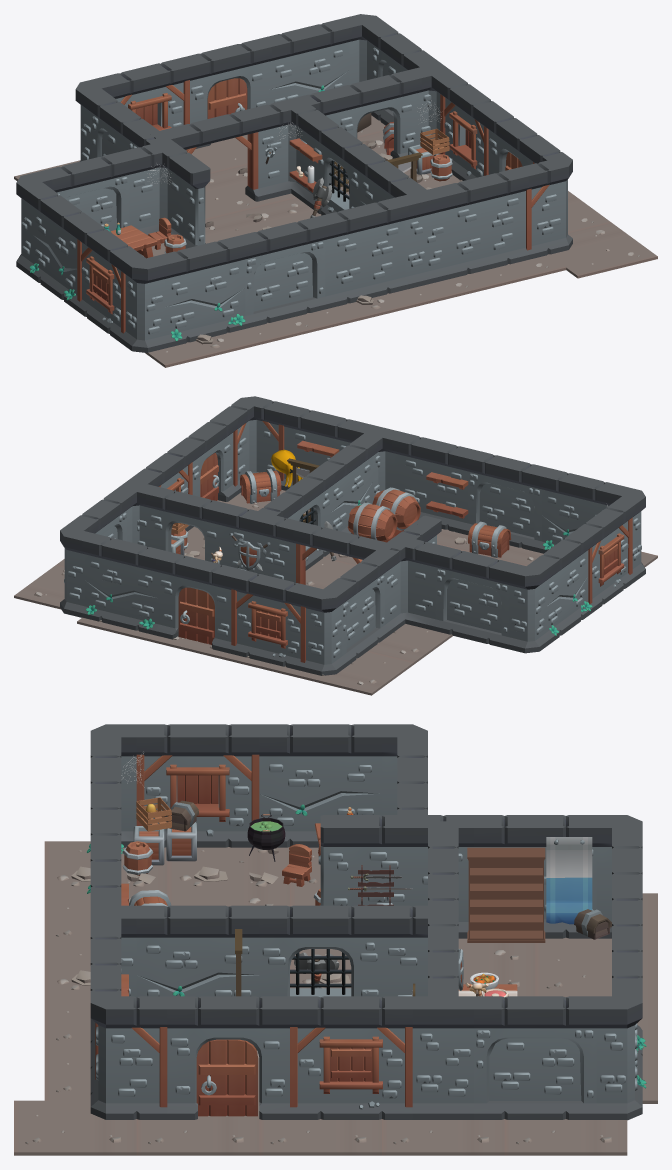
The model's file is one.glb.
The picture shows the model from 3 angles, top to bottom: view 1: azimuth 30°, elevation 25°; view 2: azimuth 150°, elevation 25°; view 3: azimuth 270°, elevation 25°; orthographic projection. The views are drawn at different scales.
Parts seen in each view (by area): view 1: wall_corner_small.001, floor_dirt_large, Cube.008, table_long, FruitCrate2.001, barrel_small.002; view 2: wall_corner_small.001, floor_dirt_large, Cube.008, keg.001, chest, keg, chest.001, Cube.001, FoodIngredient_Octopus; view 3: wall_corner_small.001, floor_dirt_large, group804261949, Cube.001, box_small.002, chair, FruitCrate2, barrel_small.001, trunk_medium_B.001, box_small, trunk_medium_B.
Part boxes in pixels (x1,y1,x2,y2): wall_corner_small.001: (16,14,572,352); floor_dirt_large: (14,115,657,367); Cube.008: (207,78,247,118); table_long: (111,225,157,258); FruitCrate2.001: (420,128,449,154); barrel_small.002: (430,154,452,181); wall_corner_small.001: (60,396,645,675); floor_dirt_large: (14,490,657,695); Cube.008: (178,587,214,644); keg.001: (347,502,397,542); chest: (468,521,511,557); keg: (372,487,420,537); chest.001: (240,468,281,503); Cube.001: (200,453,219,500); FoodIngredient_Octopus: (271,449,302,487); wall_corner_small.001: (86,724,646,1120); floor_dirt_large: (14,841,657,1155); group804261949: (467,847,545,942); Cube.001: (196,1039,257,1116); box_small.002: (166,822,196,861); chair: (282,844,311,886); FruitCrate2: (136,797,171,831); barrel_small.001: (122,841,153,875); trunk_medium_B.001: (574,909,611,939); box_small: (133,826,164,865); trunk_medium_B: (165,800,198,831).
Bounding box in the file's own units: 24.63 × 4.26 × 21.
34 materials, 32 textured.
